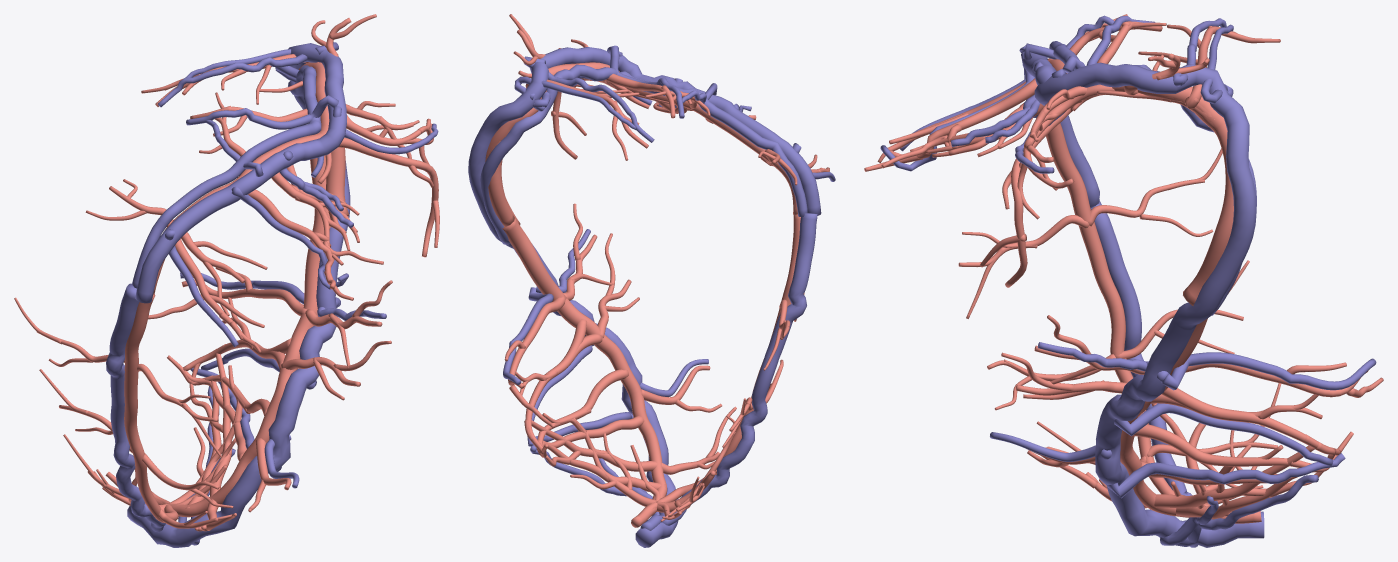
File: vessels_24.glb
3 views of the same model, side by side, from view 1: azimuth 30°, elevation 25°; view 2: azimuth 150°, elevation 25°; view 3: azimuth 270°, elevation 25° (orthographic). The views are drawn at different scales.
Visible parts, largest first — view 1: Renderer Node; view 2: Renderer Node; view 3: Renderer Node.
Part boxes in pixels (<box>): Renderer Node: <box>14,14,439,547</box>; Renderer Node: <box>468,14,835,547</box>; Renderer Node: <box>864,14,1383,547</box>.
Bounding box in the file's own units: 83.21 × 113 × 88.45.
